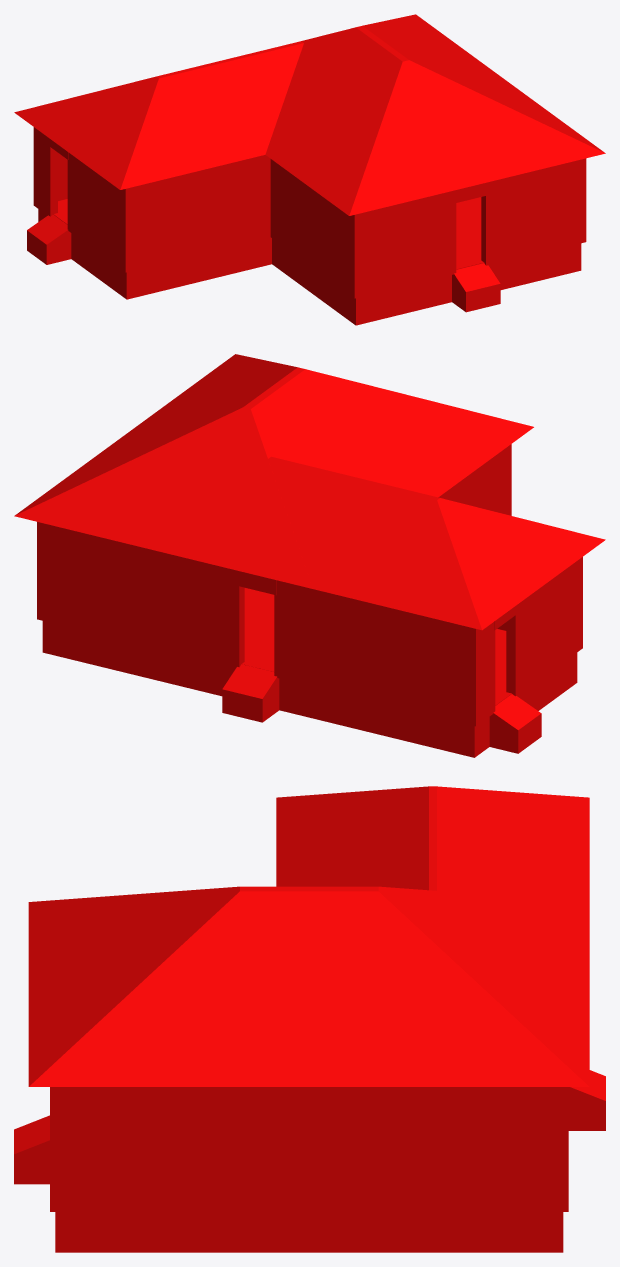
The model's file is SM_PolygonApocalypse_Bld_House_01_Collision.glb.
3 views of the same model, one above another, from view 1: azimuth 30°, elevation 25°; view 2: azimuth 150°, elevation 25°; view 3: azimuth 270°, elevation 25° (orthographic). The views are drawn at different scales.
Visible parts, largest first — view 1: SM_PolygonApocalypse_Bld_House_01_Collision; view 2: SM_PolygonApocalypse_Bld_House_01_Collision; view 3: SM_PolygonApocalypse_Bld_House_01_Collision.
Boxes of the visible parts, box(x1,y1,x2,y2) form: SM_PolygonApocalypse_Bld_House_01_Collision: box(14, 14, 605, 325); SM_PolygonApocalypse_Bld_House_01_Collision: box(14, 354, 605, 757); SM_PolygonApocalypse_Bld_House_01_Collision: box(14, 786, 605, 1252).
Bounding box in the file's own units: 14.15 × 6.3 × 11.96.
